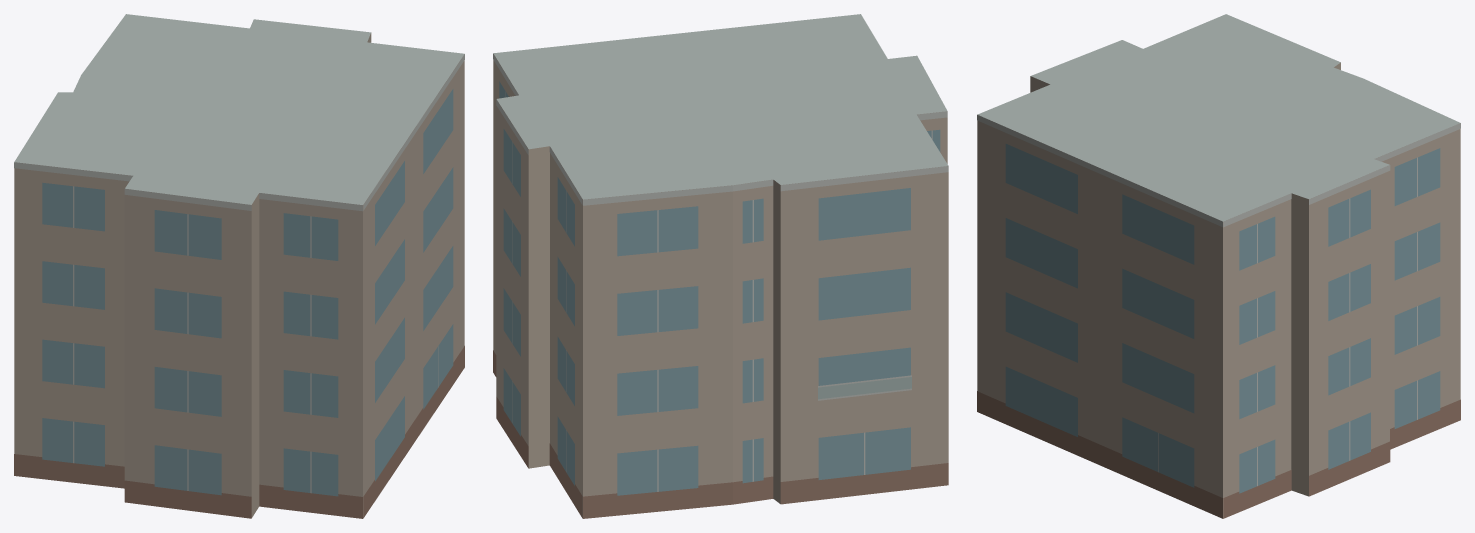
File: survey-upis-32770731.glb
3 views of the same model, side by side, from view 1: azimuth 30°, elevation 25°; view 2: azimuth 150°, elevation 25°; view 3: azimuth 270°, elevation 25° (orthographic). The views are drawn at different scales.
Parts seen in each view (by area): view 1: survey-upis-32770731.tmp; view 2: survey-upis-32770731.tmp; view 3: survey-upis-32770731.tmp.
Boxes of the visible parts, box(x1,y1,x2,y2) form: survey-upis-32770731.tmp: box(14, 14, 464, 518); survey-upis-32770731.tmp: box(493, 14, 948, 518); survey-upis-32770731.tmp: box(977, 14, 1460, 518).
Size of the model in its own units: 18.73 by 12.5 by 18.43.
